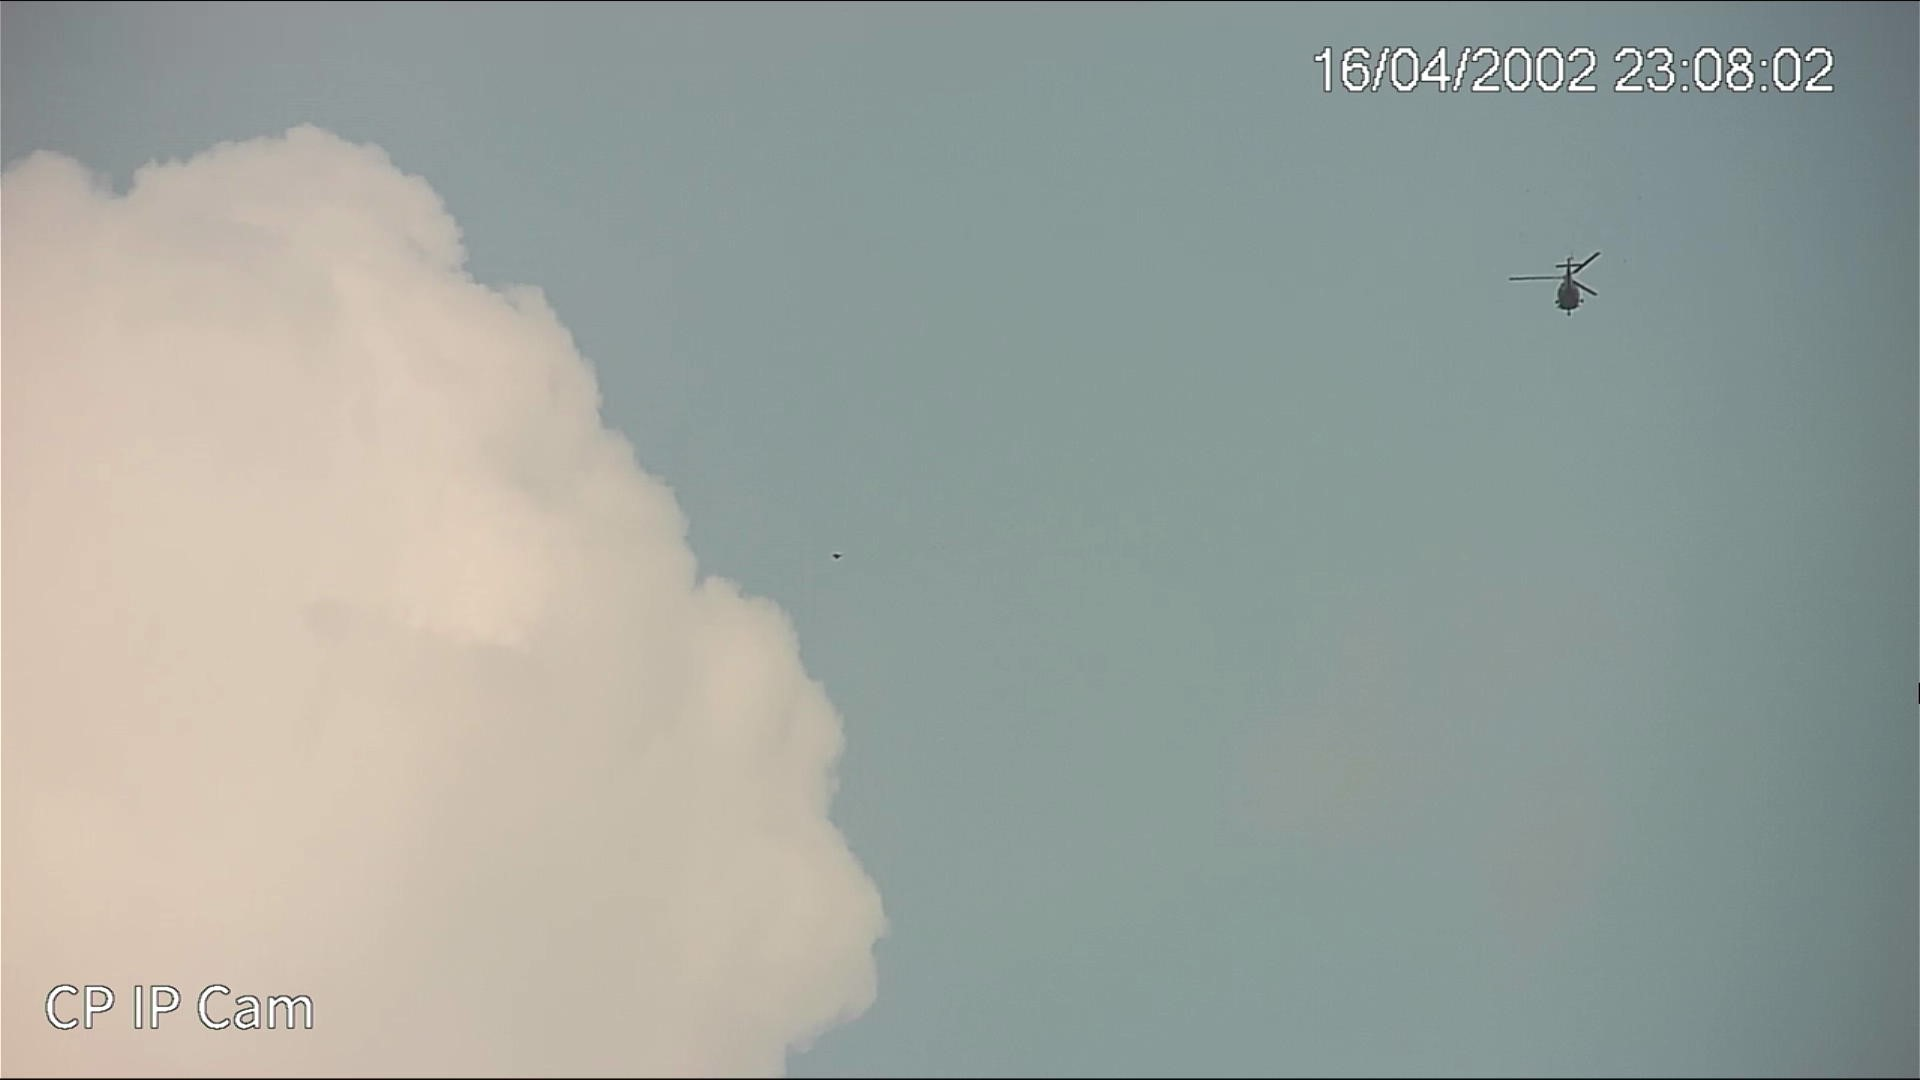SU_30: (1506, 253, 1604, 314)
